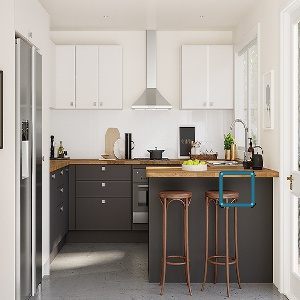square: (217, 168, 258, 209)
